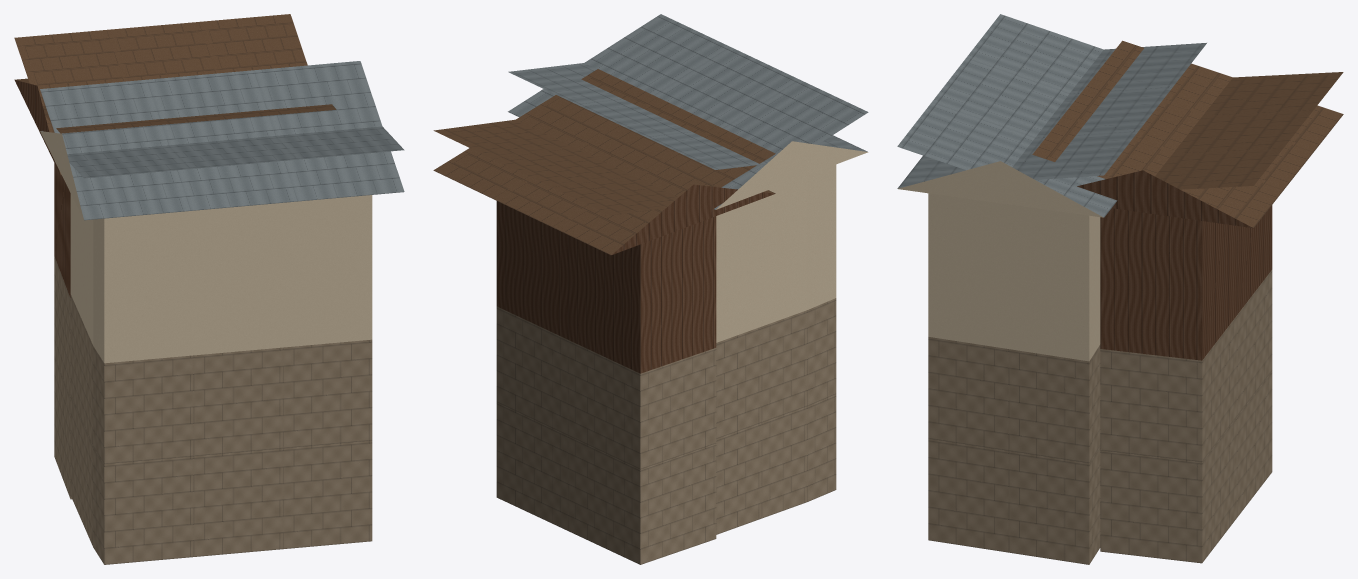
The model's file is bld_c3_18_458.gltf.
3 renders of one model, left to right at view 1: azimuth 30°, elevation 25°; view 2: azimuth 150°, elevation 25°; view 3: azimuth 270°, elevation 25°, orthographic. The views are drawn at different scales.
Visible parts, largest first — view 1: bld_c3_18_458; view 2: bld_c3_18_458; view 3: bld_c3_18_458.
Part boxes in pixels (x1,y1,x2,y2): bld_c3_18_458: [14, 14, 404, 564]; bld_c3_18_458: [433, 14, 868, 564]; bld_c3_18_458: [897, 14, 1343, 564].
Size of the model in its own units: 8.29 by 9.6 by 9.57.
Materials: 7 (7 with a texture image).
